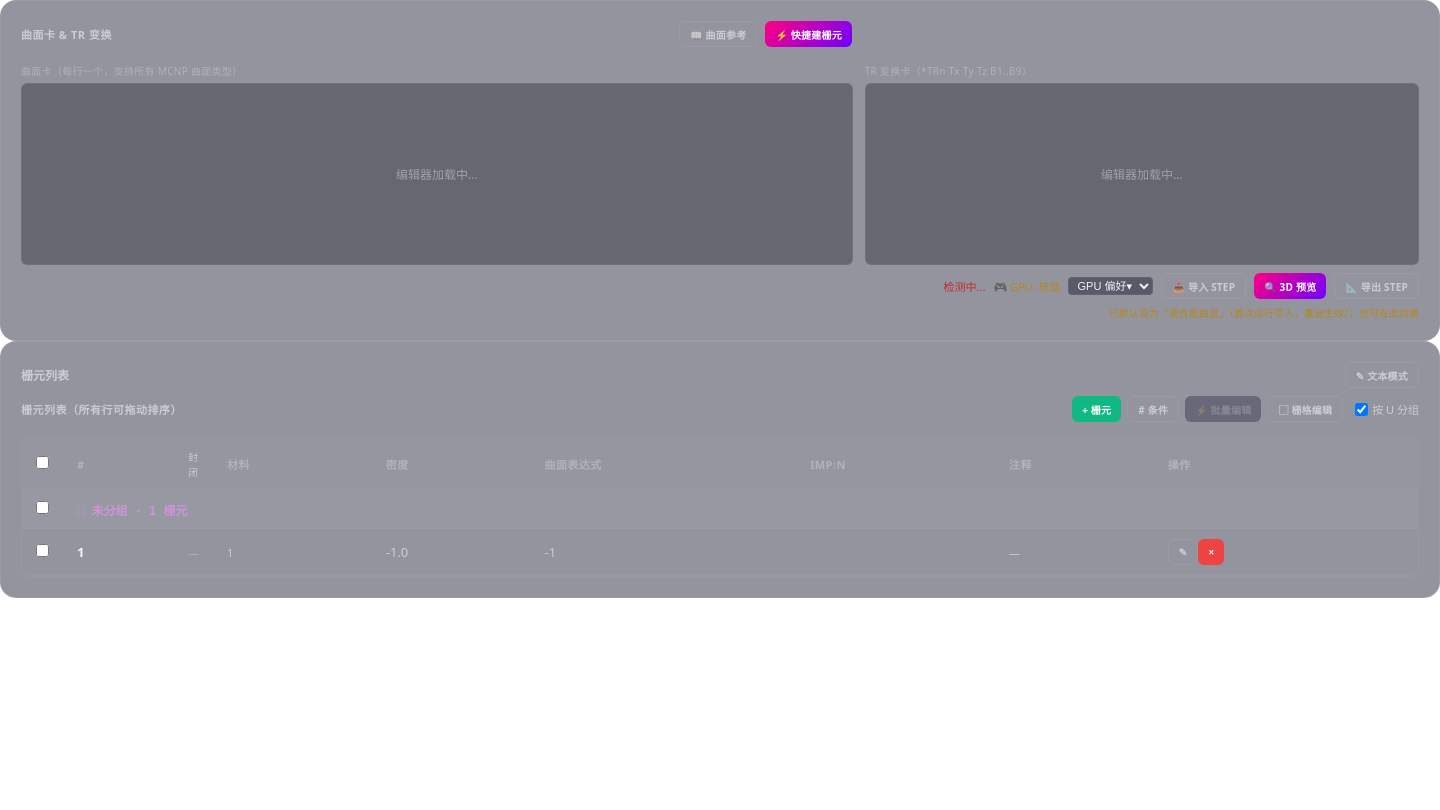
Test: 几何页 · 导出 STEP 入口 › ★点「📐 导出 STEP」⇒ 三个键出现在对话框里
Click the button "📐 导出 STEP": (1377, 286) [1334,273,1419,299]
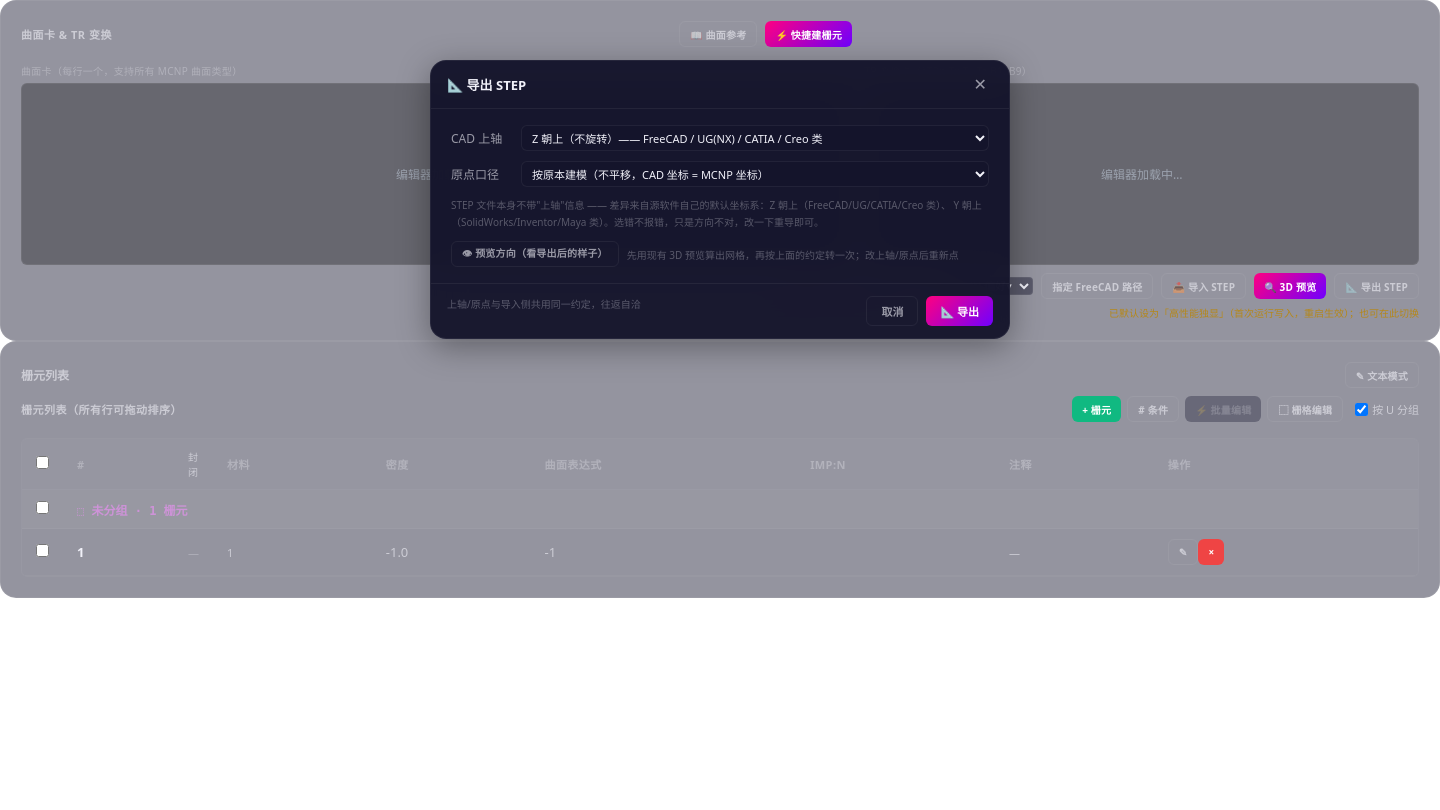
Expected: the button "👁 预览方向（看导出后的样子）" is shown, [451,241,619,267]
